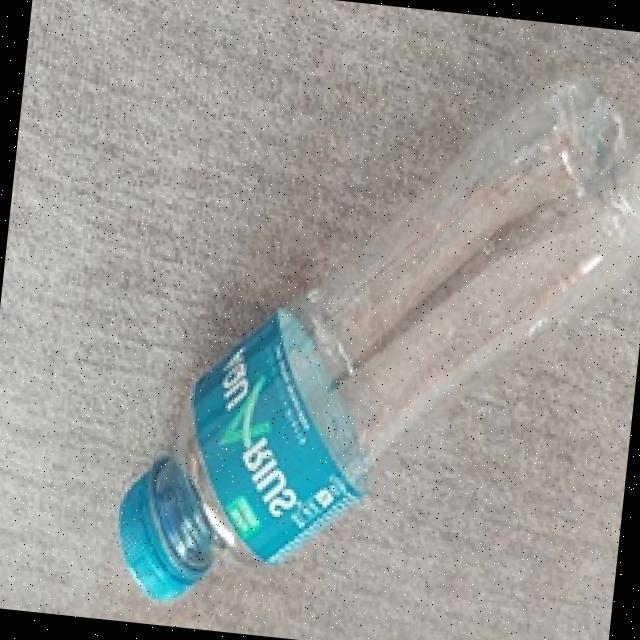bottle: (99, 0, 640, 640)
cap: (105, 475, 202, 603)
label: (165, 298, 387, 584)
